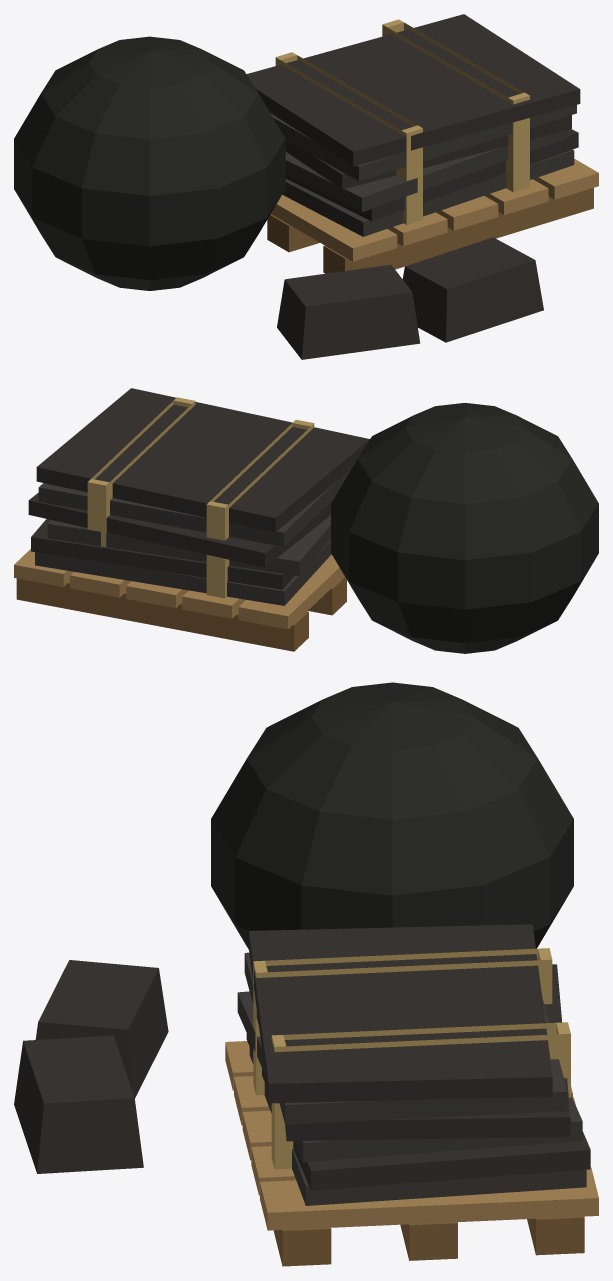
File: caoutchouc.glb
The picture shows the model from 3 angles, top to bottom: view 1: azimuth 30°, elevation 25°; view 2: azimuth 150°, elevation 25°; view 3: azimuth 270°, elevation 25°; orthographic projection. The views are drawn at different scales.
Parts seen in each view (by area): view 1: caoutchouc; view 2: caoutchouc; view 3: caoutchouc.
Boxes of the visible parts, x1,y1,x2,y2 form: caoutchouc: [14, 14, 598, 359]; caoutchouc: [14, 388, 598, 653]; caoutchouc: [14, 682, 598, 1266].
Bounding box in the file's own units: 0.8203 × 0.34 × 0.597.
